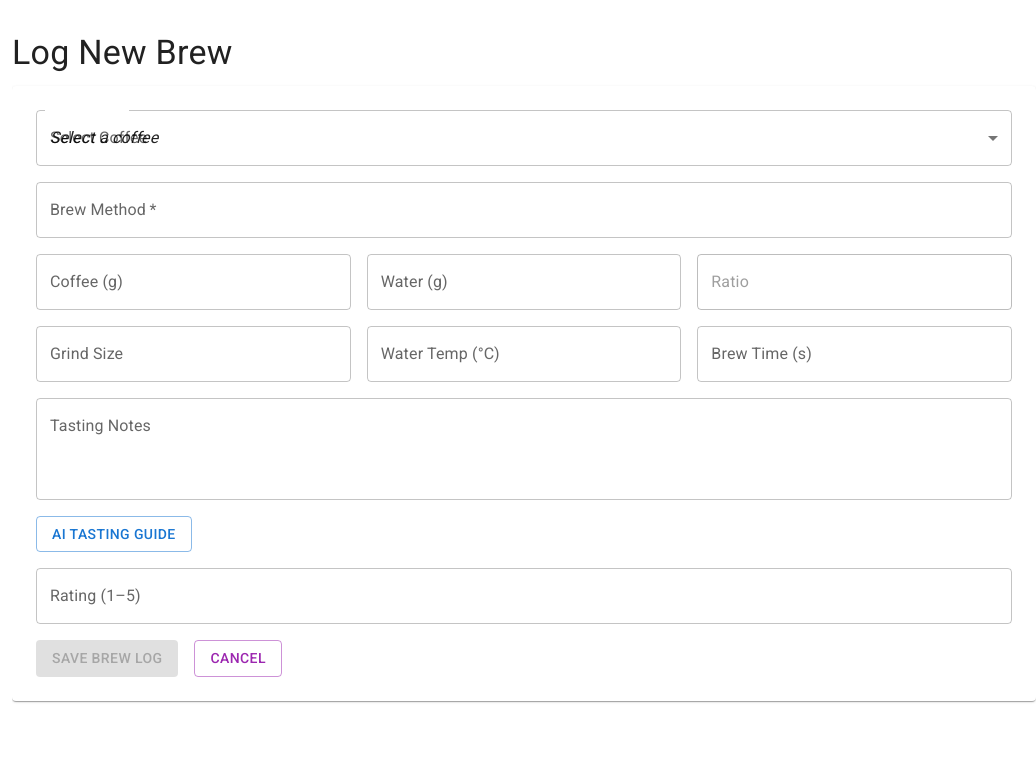
Test: BrewLogForm › requires selecting a coffee if none provided and blocks submit until chosen
Step 1. Type "V60" into the field with test id "brew-method" → [524, 210], box [36,182,1012,238]
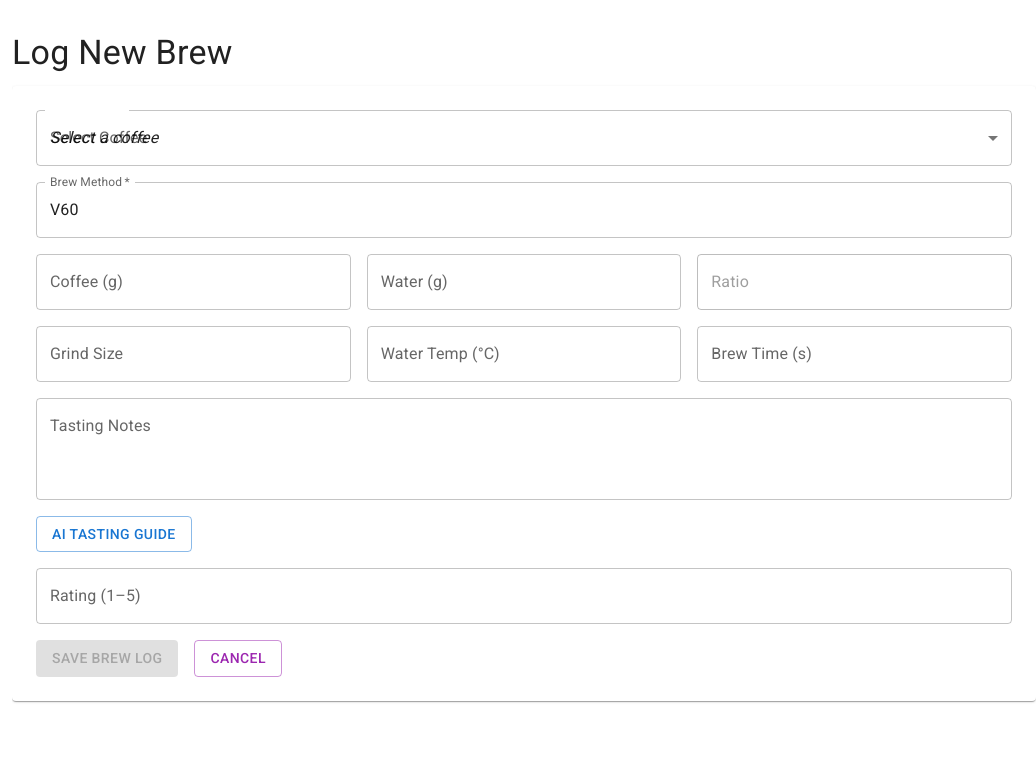
Expected: the button with test id "submit-brewlog" is disabled, [36,640,178,677]
Step 2. Press the mouse on the dropdown named "select coffee" → [104, 138], box [50,128,158,147]
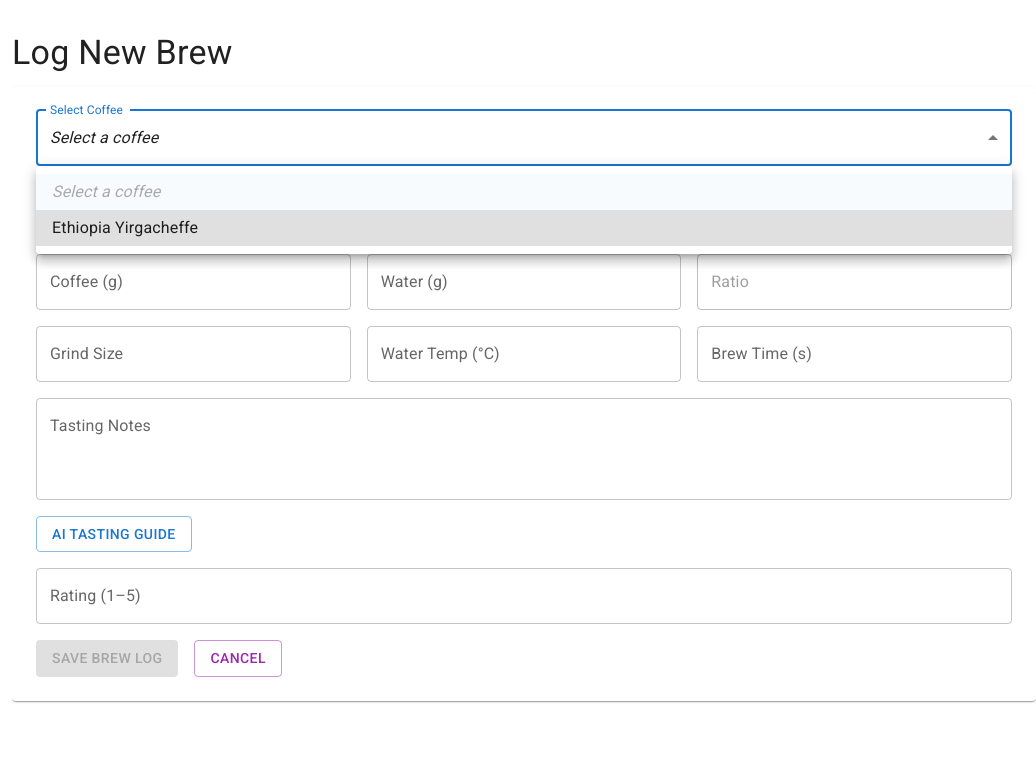
Step 3. Click the option "Ethiopia Yirgacheffe" → [125, 228], box [36,210,1012,246]
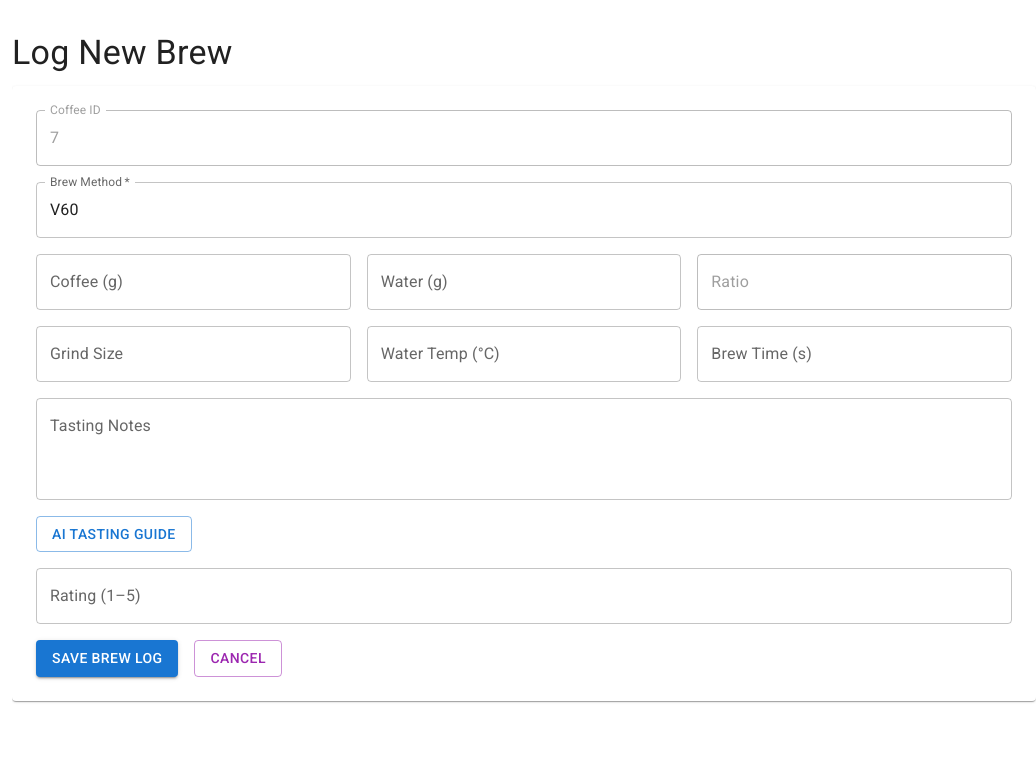
Result: the button with test id "submit-brewlog" is enabled at [36,640,178,677]
